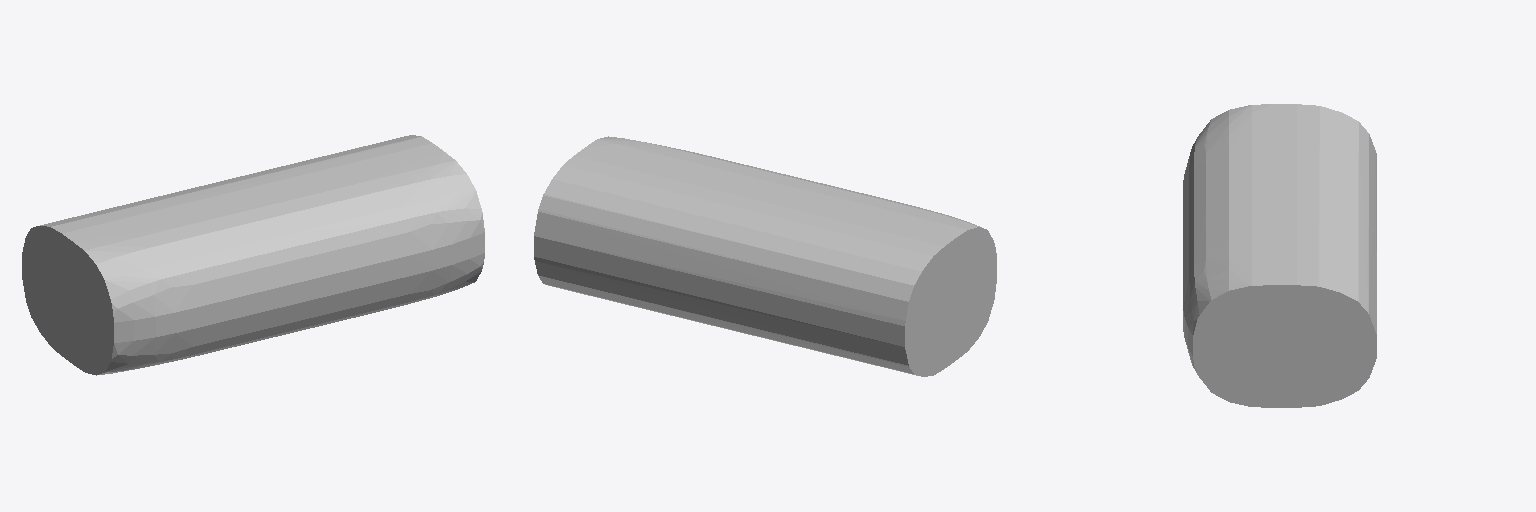
Rendered from wagon_V2_top-handle-original v1_collision_2.obj.
3 views of the same model, side by side, from view 1: azimuth 30°, elevation 25°; view 2: azimuth 150°, elevation 25°; view 3: azimuth 270°, elevation 25° (orthographic).
Bounding box in the file's own units: 7.77 × 2.45 × 3.53.